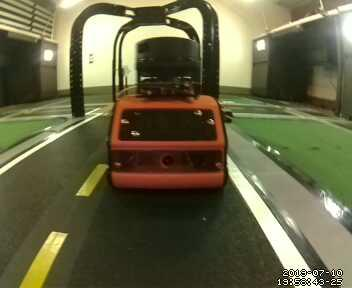pheeno: (102, 40, 234, 198)
